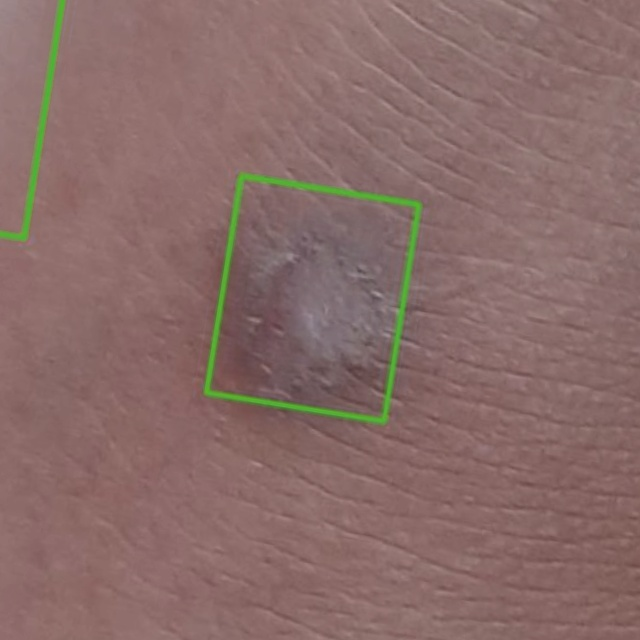Contact Dermatitis: (206, 175, 418, 421)
